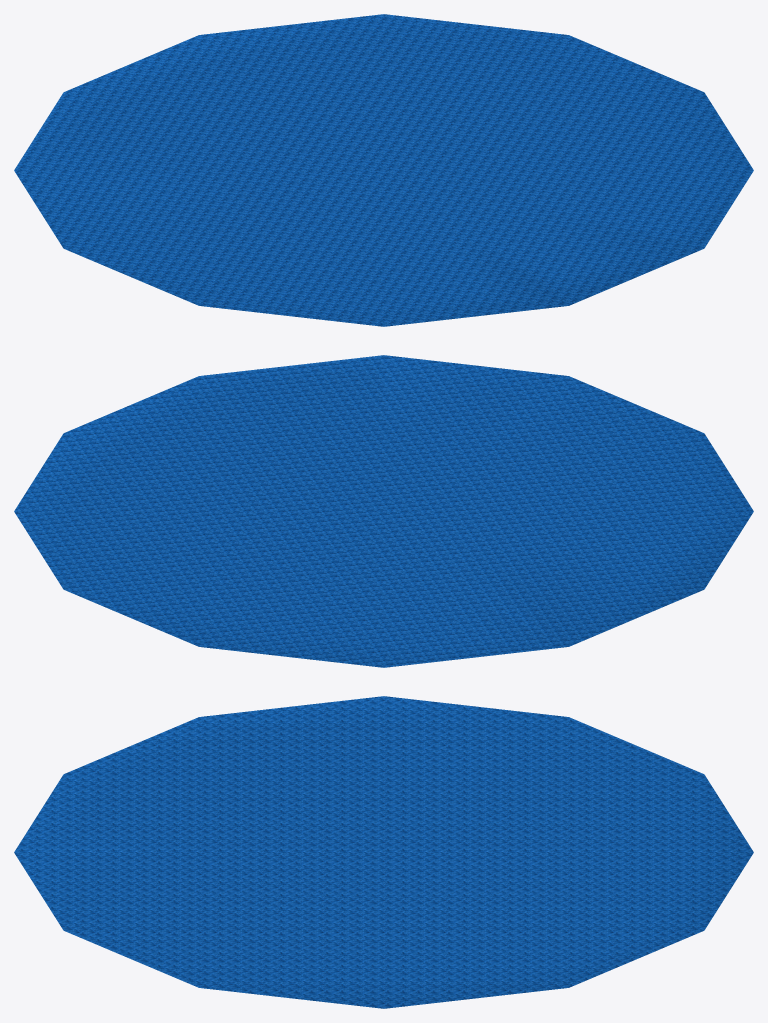
File: ENVO_Sea02.obj
The picture shows the model from 3 angles, top to bottom: view 1: azimuth 30°, elevation 25°; view 2: azimuth 150°, elevation 25°; view 3: azimuth 270°, elevation 25°; orthographic projection.
Visible parts, largest first — view 1: Sea02; view 2: Sea02; view 3: Sea02.
Part boxes in pixels (<box>): Sea02: <box>14,14,753,326</box>; Sea02: <box>14,355,753,667</box>; Sea02: <box>14,696,753,1008</box>.
Size of what is drawn, in the model's own units: 15132 by 832 by 15132.
Materials: 4 (3 with a texture image).
